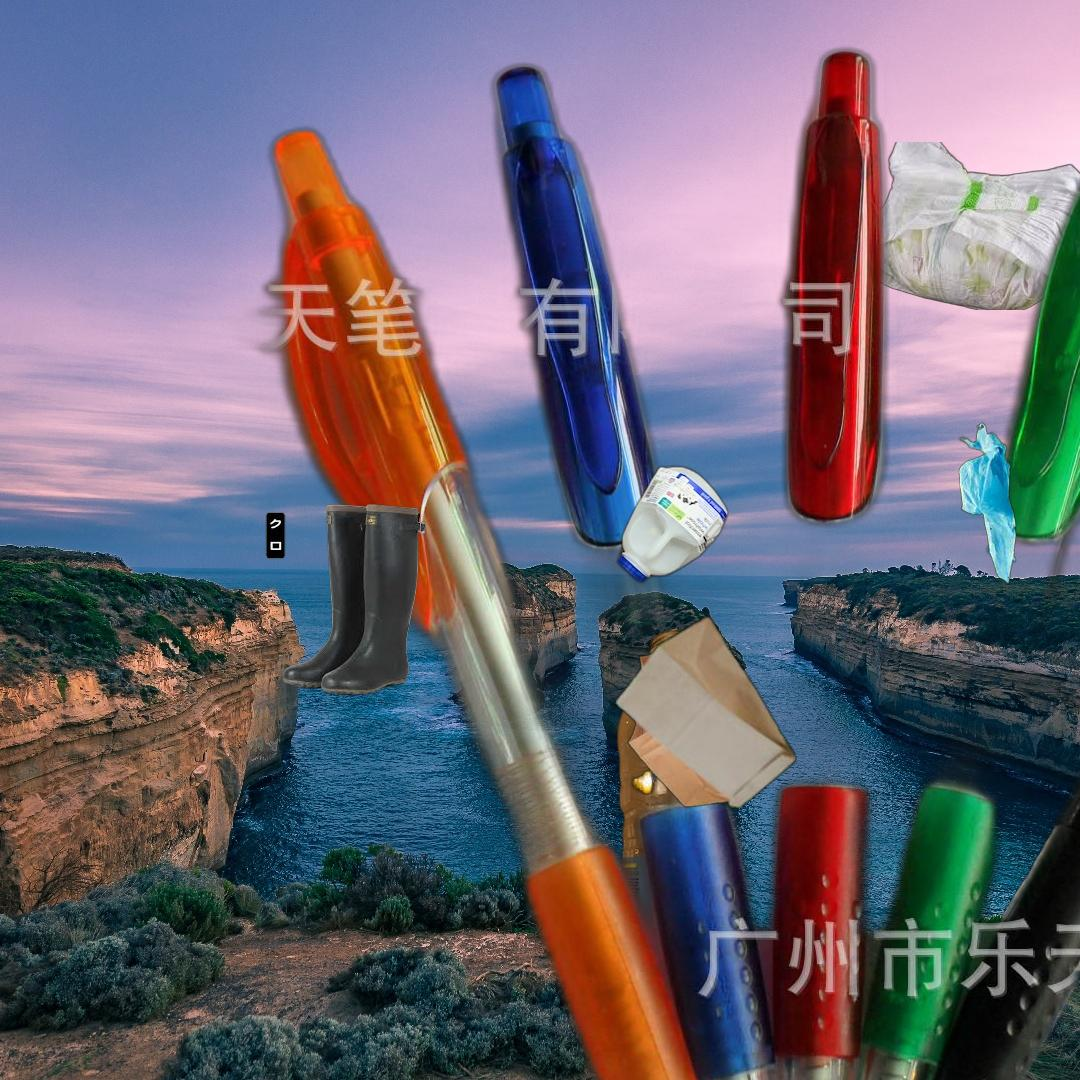paper-bag: (609, 611, 799, 811)
penholder: (215, 38, 1080, 1080)
plastic-bag: (956, 420, 1019, 586)
plastic-bottles: (614, 625, 687, 1080), (613, 460, 733, 588)
shoes: (263, 501, 428, 698)
trash: (846, 142, 1080, 310)
trashbox-cardboard: (976, 774, 1080, 991)
